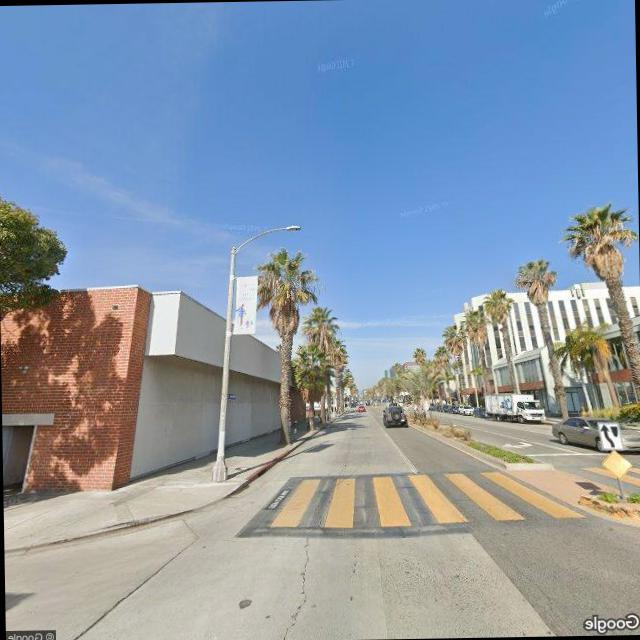crack: (266, 528, 318, 639)
